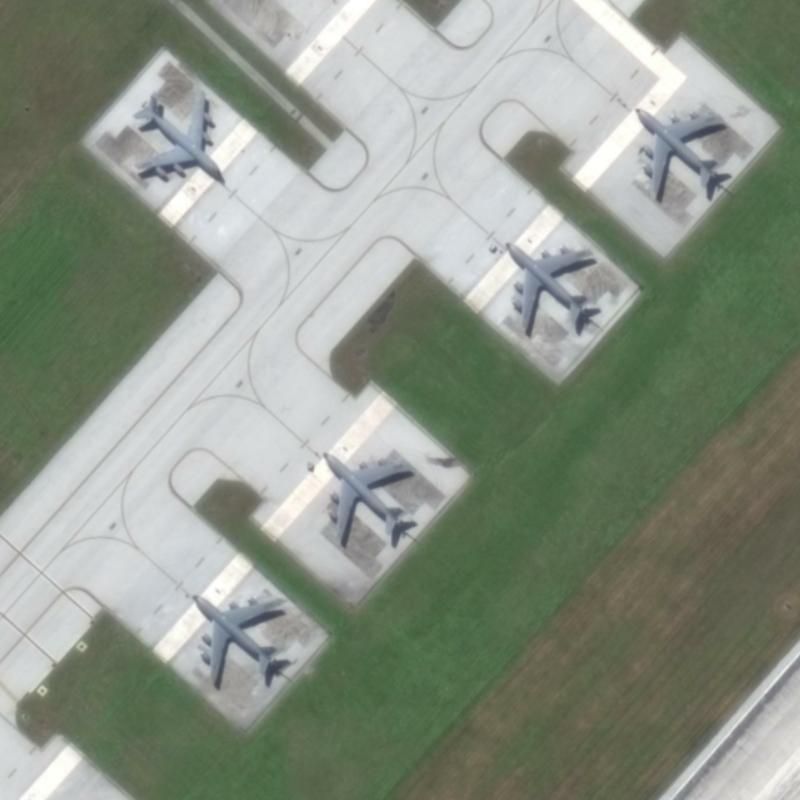A14: (498, 231, 604, 339), (186, 588, 295, 692), (317, 444, 420, 551), (630, 104, 736, 207), (127, 88, 228, 188)
